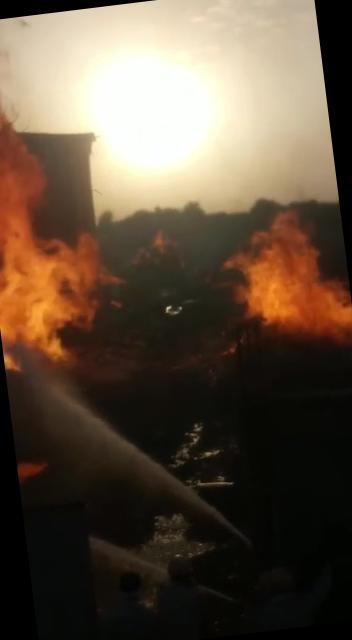Fire: (0, 9, 124, 372), (215, 203, 352, 362)
